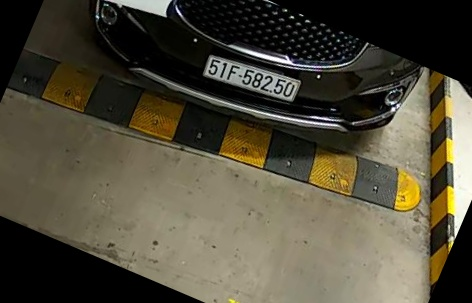plate: (202, 50, 300, 105)
